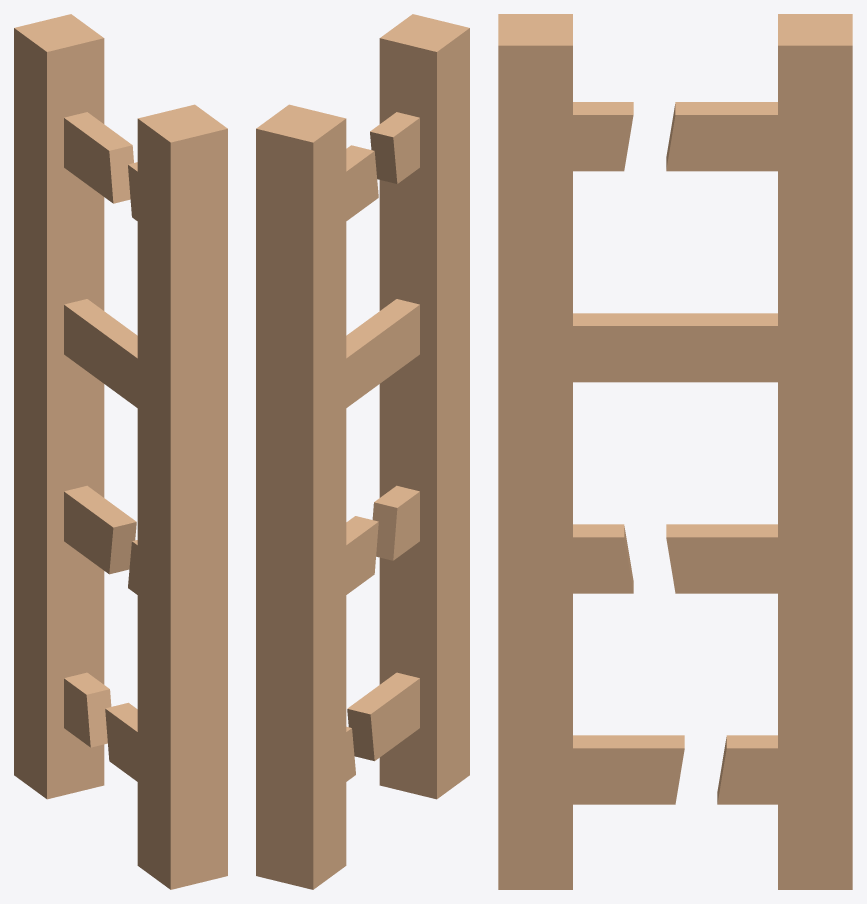
Rendered from ladderBroken.glb.
The picture shows the model from 3 angles, left to right: view 1: azimuth 30°, elevation 25°; view 2: azimuth 150°, elevation 25°; view 3: azimuth 270°, elevation 25°; orthographic projection. The views are drawn at different scales.
Parts seen in each view (by area): view 1: ladderBroken(Clone); view 2: ladderBroken(Clone); view 3: ladderBroken(Clone).
Boxes of the visible parts, x1=… form: ladderBroken(Clone): x1=14, y1=14, x2=227, y2=889; ladderBroken(Clone): x1=256, y1=14, x2=469, y2=889; ladderBroken(Clone): x1=498, y1=14, x2=852, y2=889.
Size of the model in its own units: 0.08 by 1 by 0.38.
